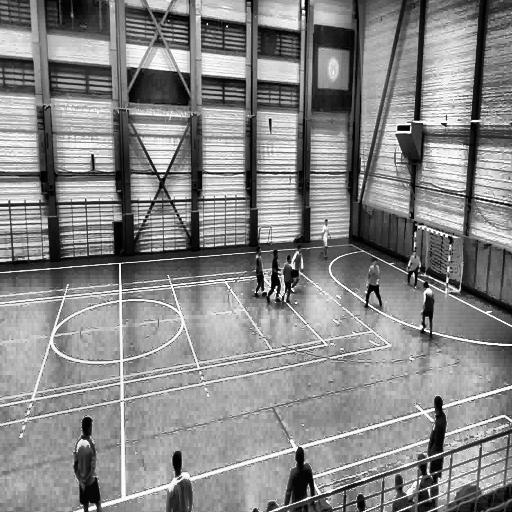ball: (420, 325, 424, 333)
player: (76, 415, 111, 512), (165, 451, 192, 512), (266, 251, 283, 303), (365, 258, 382, 308), (420, 281, 434, 337), (290, 245, 304, 295), (406, 249, 420, 289), (254, 246, 264, 298), (322, 221, 331, 261)
